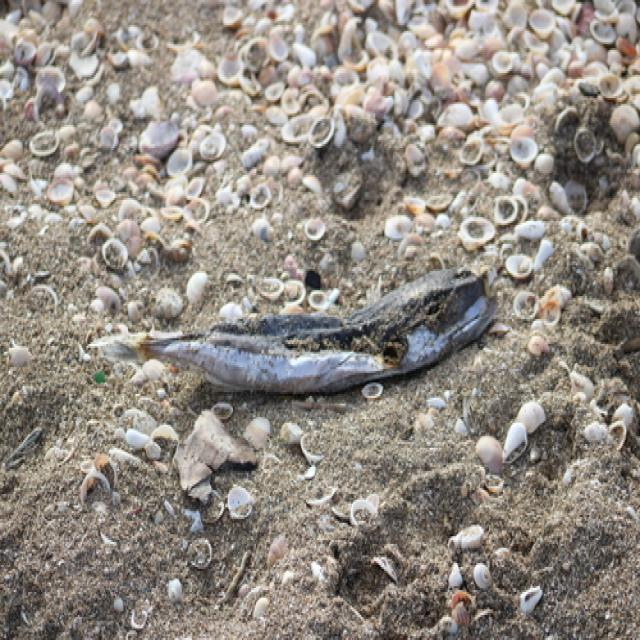Balik: (93, 270, 496, 393)
